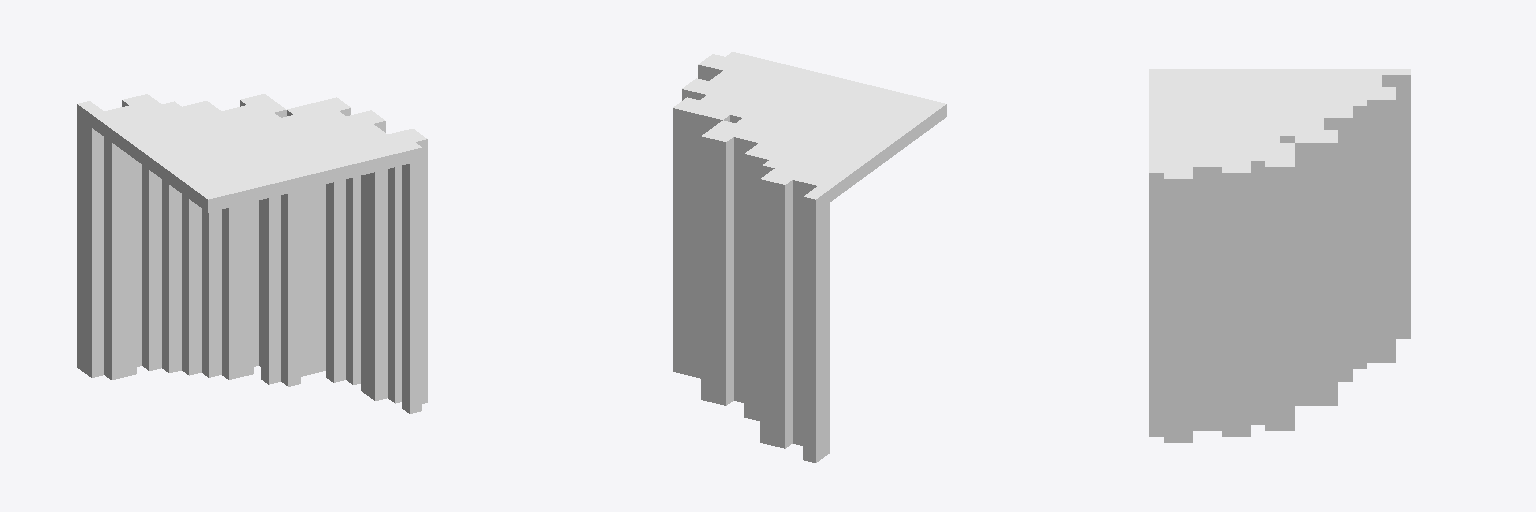
The model's file is island-2.obj.
3 renders of one model, left to right at view 1: azimuth 30°, elevation 25°; view 2: azimuth 150°, elevation 25°; view 3: azimuth 270°, elevation 25°, orthographic.
Parts seen in each view (by area): view 1: object 1; view 2: object 1; view 3: object 1.
Boxes of the visible parts, <box> form: object 1: <box>77,94,427,413</box>; object 1: <box>673,52,946,462</box>; object 1: <box>1149,69,1410,442</box>.
Size of the model in its own units: 1.8 by 2 by 1.8.